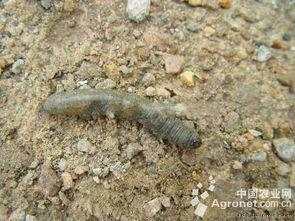caterpillars: (31, 73, 220, 164)
